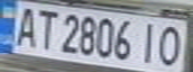0: (93, 15, 118, 60)
2: (54, 10, 81, 55)
6: (112, 17, 139, 62)
8: (75, 12, 100, 56)
A: (9, 3, 42, 48)
I: (133, 19, 163, 65)
O: (154, 21, 187, 68)
T: (30, 6, 60, 51)
